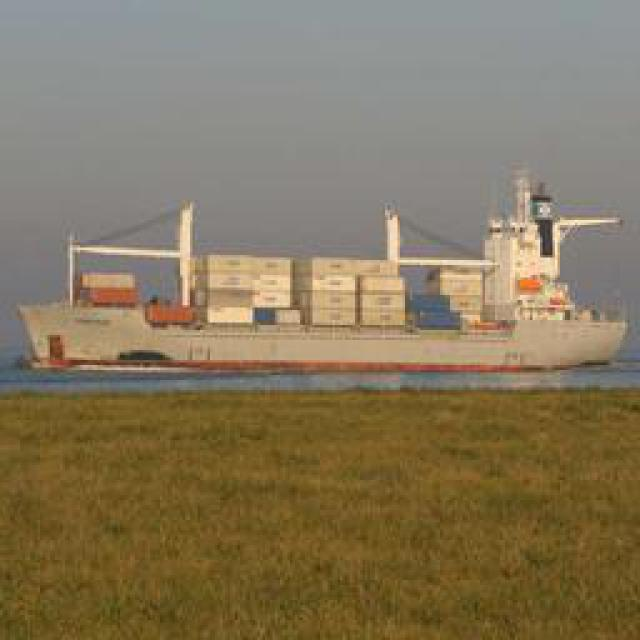Ship: (30, 243, 630, 381)
